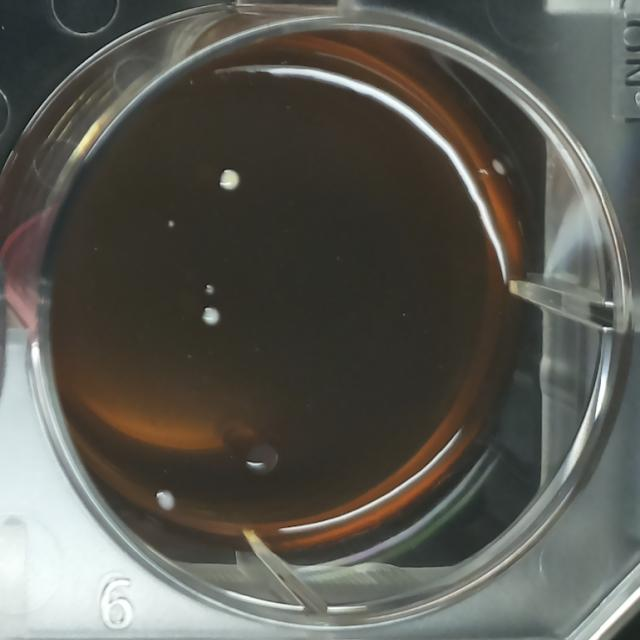Staphylococcus: (152, 486, 180, 516), (216, 166, 244, 195), (196, 304, 224, 330)
Vibrio: (241, 437, 283, 480)
